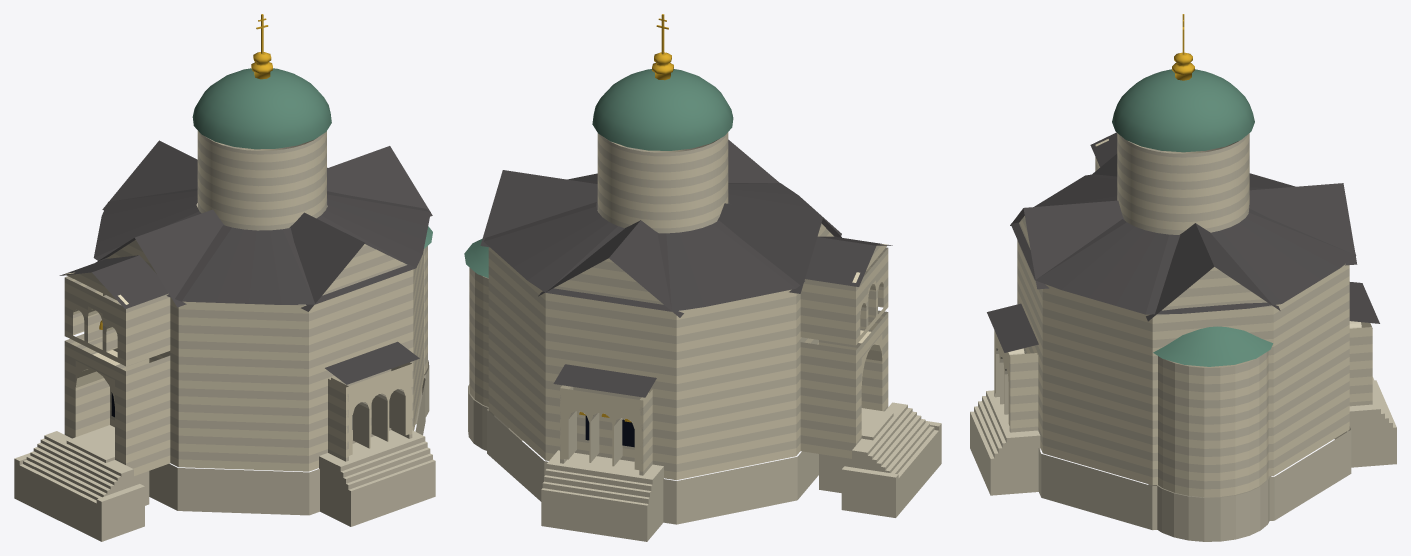
File: vladimir_sobor.lod.glb
3 renders of one model, left to right at view 1: azimuth 30°, elevation 25°; view 2: azimuth 150°, elevation 25°; view 3: azimuth 270°, elevation 25°, orthographic. The views are drawn at different scales.
Parts seen in each view (by area): view 1: vladimir_sobor_wall2, vladimir_sobor_wall, vladimir_sobor_stone, vladimir_sobor_roof, vladimir_sobor_wall3; view 2: vladimir_sobor_wall2, vladimir_sobor_wall, vladimir_sobor_stone, vladimir_sobor_roof, vladimir_sobor_wall3; view 3: vladimir_sobor_wall2, vladimir_sobor_wall, vladimir_sobor_stone, vladimir_sobor_roof, vladimir_sobor_wall3.
Part boxes in pixels (bbox=[...]): vladimir_sobor_wall2: bbox=[14, 131, 435, 541]; vladimir_sobor_wall: bbox=[64, 130, 427, 475]; vladimir_sobor_stone: bbox=[59, 140, 432, 384]; vladimir_sobor_roof: bbox=[192, 68, 432, 248]; vladimir_sobor_wall3: bbox=[99, 14, 272, 329]; vladimir_sobor_wall2: bbox=[468, 132, 941, 541]; vladimir_sobor_wall: bbox=[469, 132, 888, 480]; vladimir_sobor_stone: bbox=[480, 139, 892, 397]; vladimir_sobor_roof: bbox=[464, 69, 733, 277]; vladimir_sobor_wall3: bbox=[579, 14, 673, 422]; vladimir_sobor_wall2: bbox=[970, 134, 1396, 541]; vladimir_sobor_wall: bbox=[994, 133, 1372, 497]; vladimir_sobor_stone: bbox=[987, 132, 1379, 352]; vladimir_sobor_roof: bbox=[1112, 69, 1273, 366]; vladimir_sobor_wall3: bbox=[1172, 14, 1194, 80].
Size of the model in its own units: 36.21 by 36.12 by 31.61.
